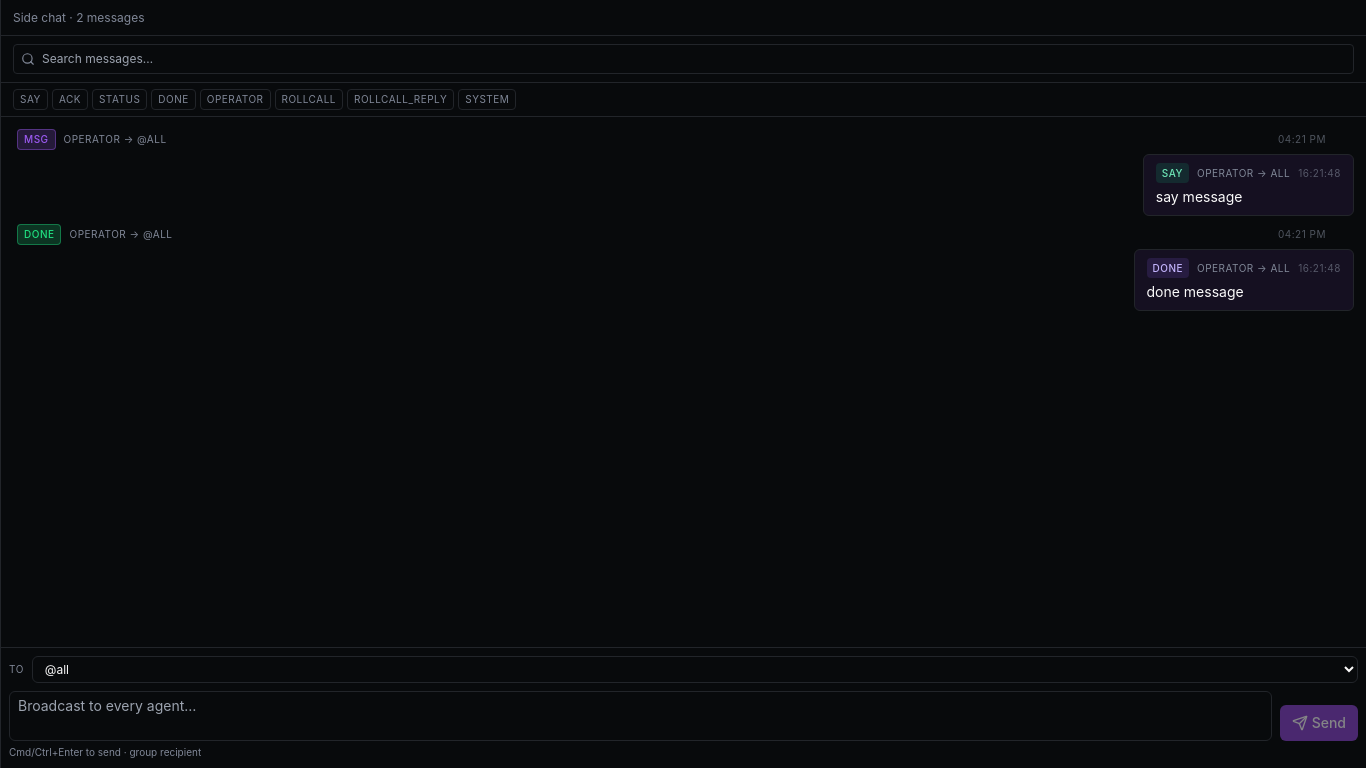
Test: SideChat kind-filter pills › filters to only SAY messages when SAY pill is active
Expected: the text "say message" is shown, [1156,188,1242,205]
Expected: the text "done message" is shown, [1146,283,1244,300]
Click the button "SAY" at (30, 100), box [13,89,48,110]
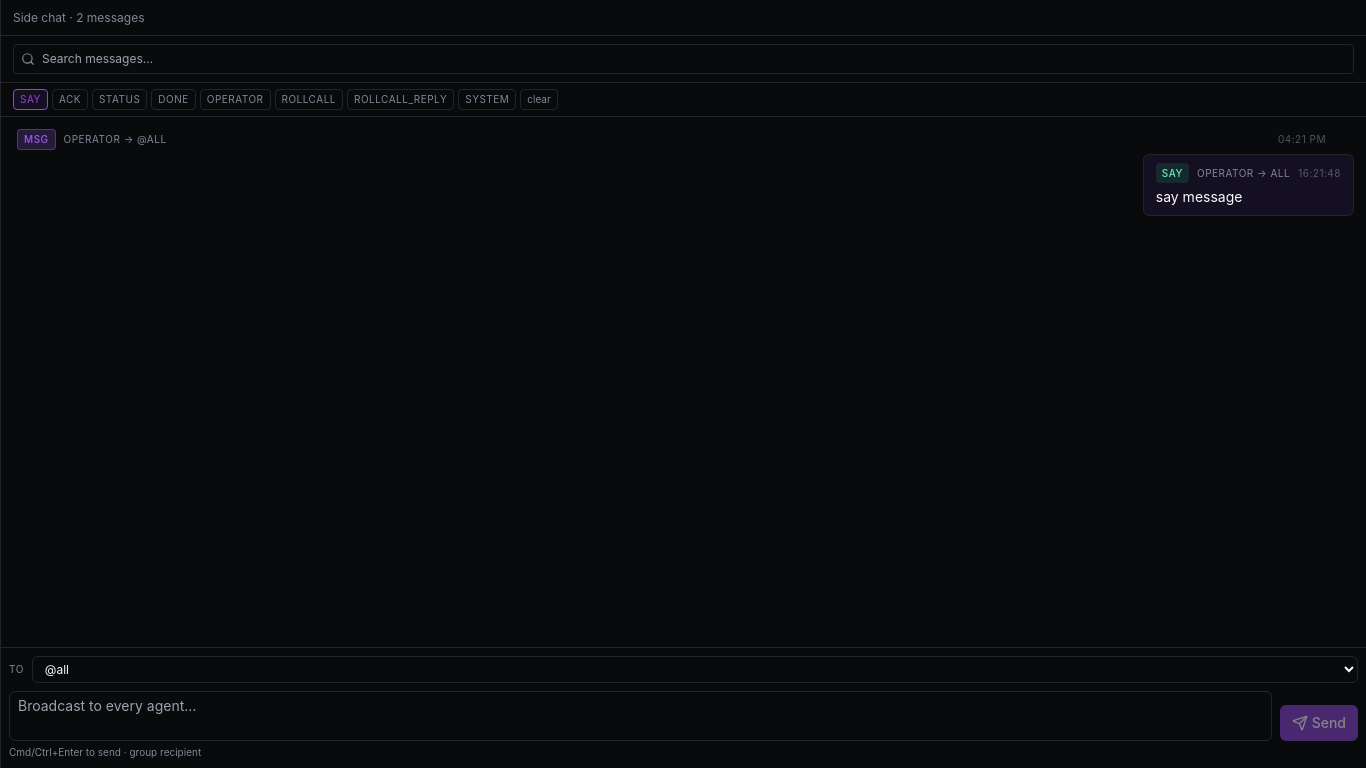
Expected: the text "say message" is shown, [1156,188,1242,205]
Now the text "done message" is gone
